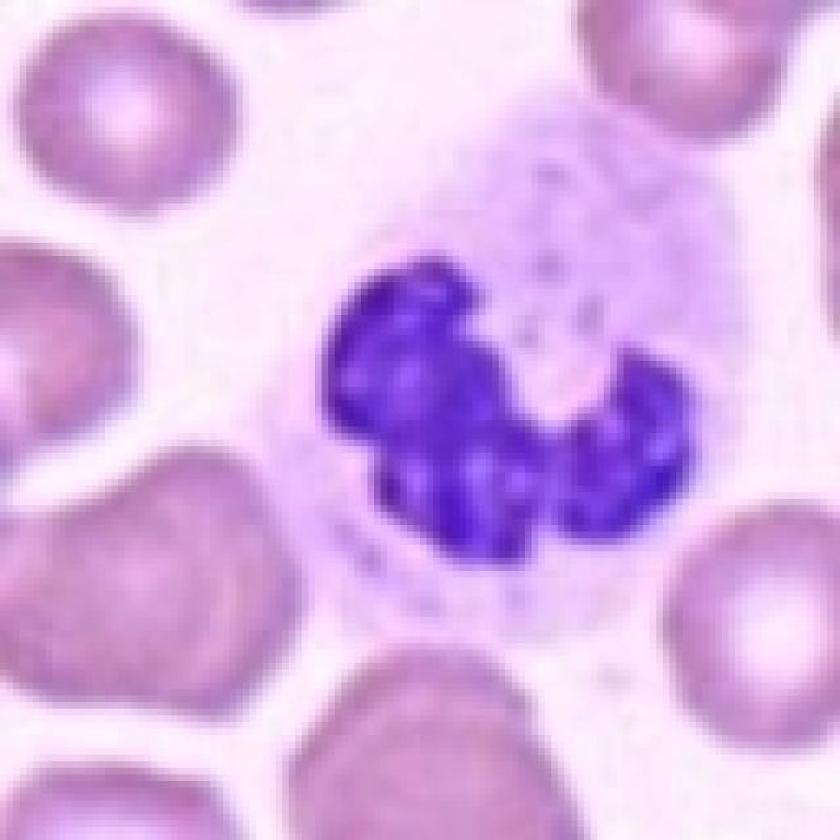neutrophil: (255, 77, 747, 626)
